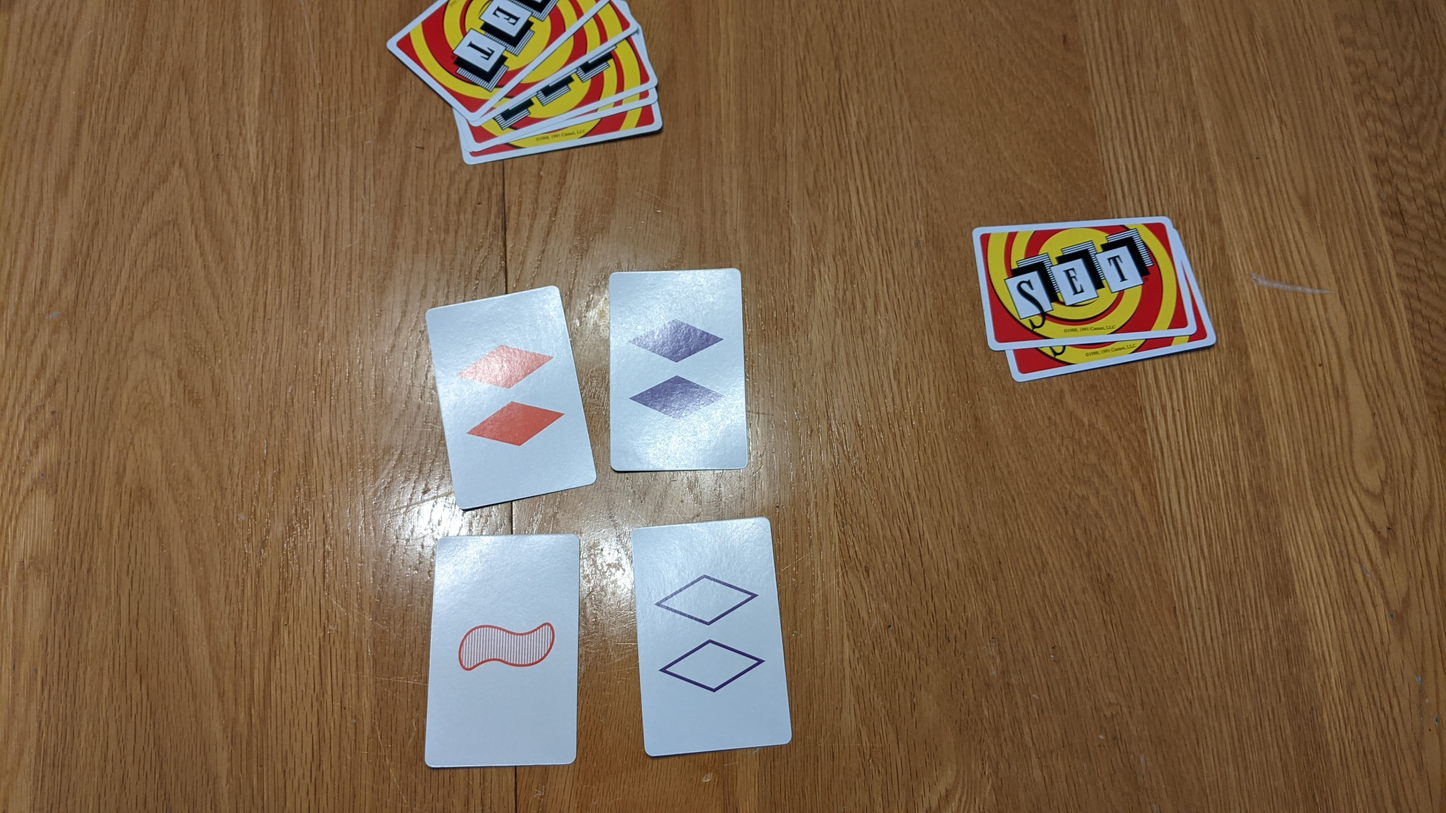card: (632, 517, 793, 759), (425, 286, 596, 510), (425, 534, 580, 767), (609, 267, 749, 470)
